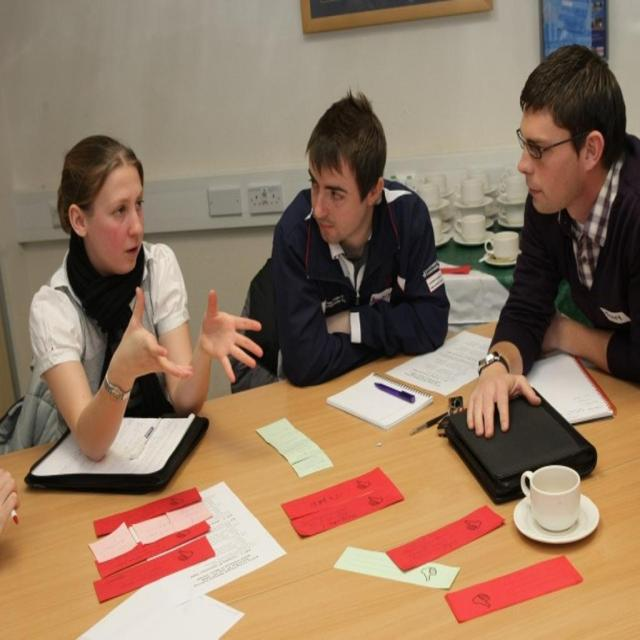Face: (79, 168, 151, 285), (514, 95, 582, 216), (303, 145, 371, 248)
